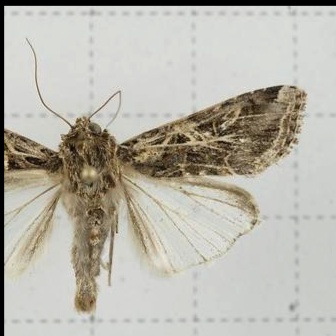Spodoptera litura: (5, 37, 307, 312)
